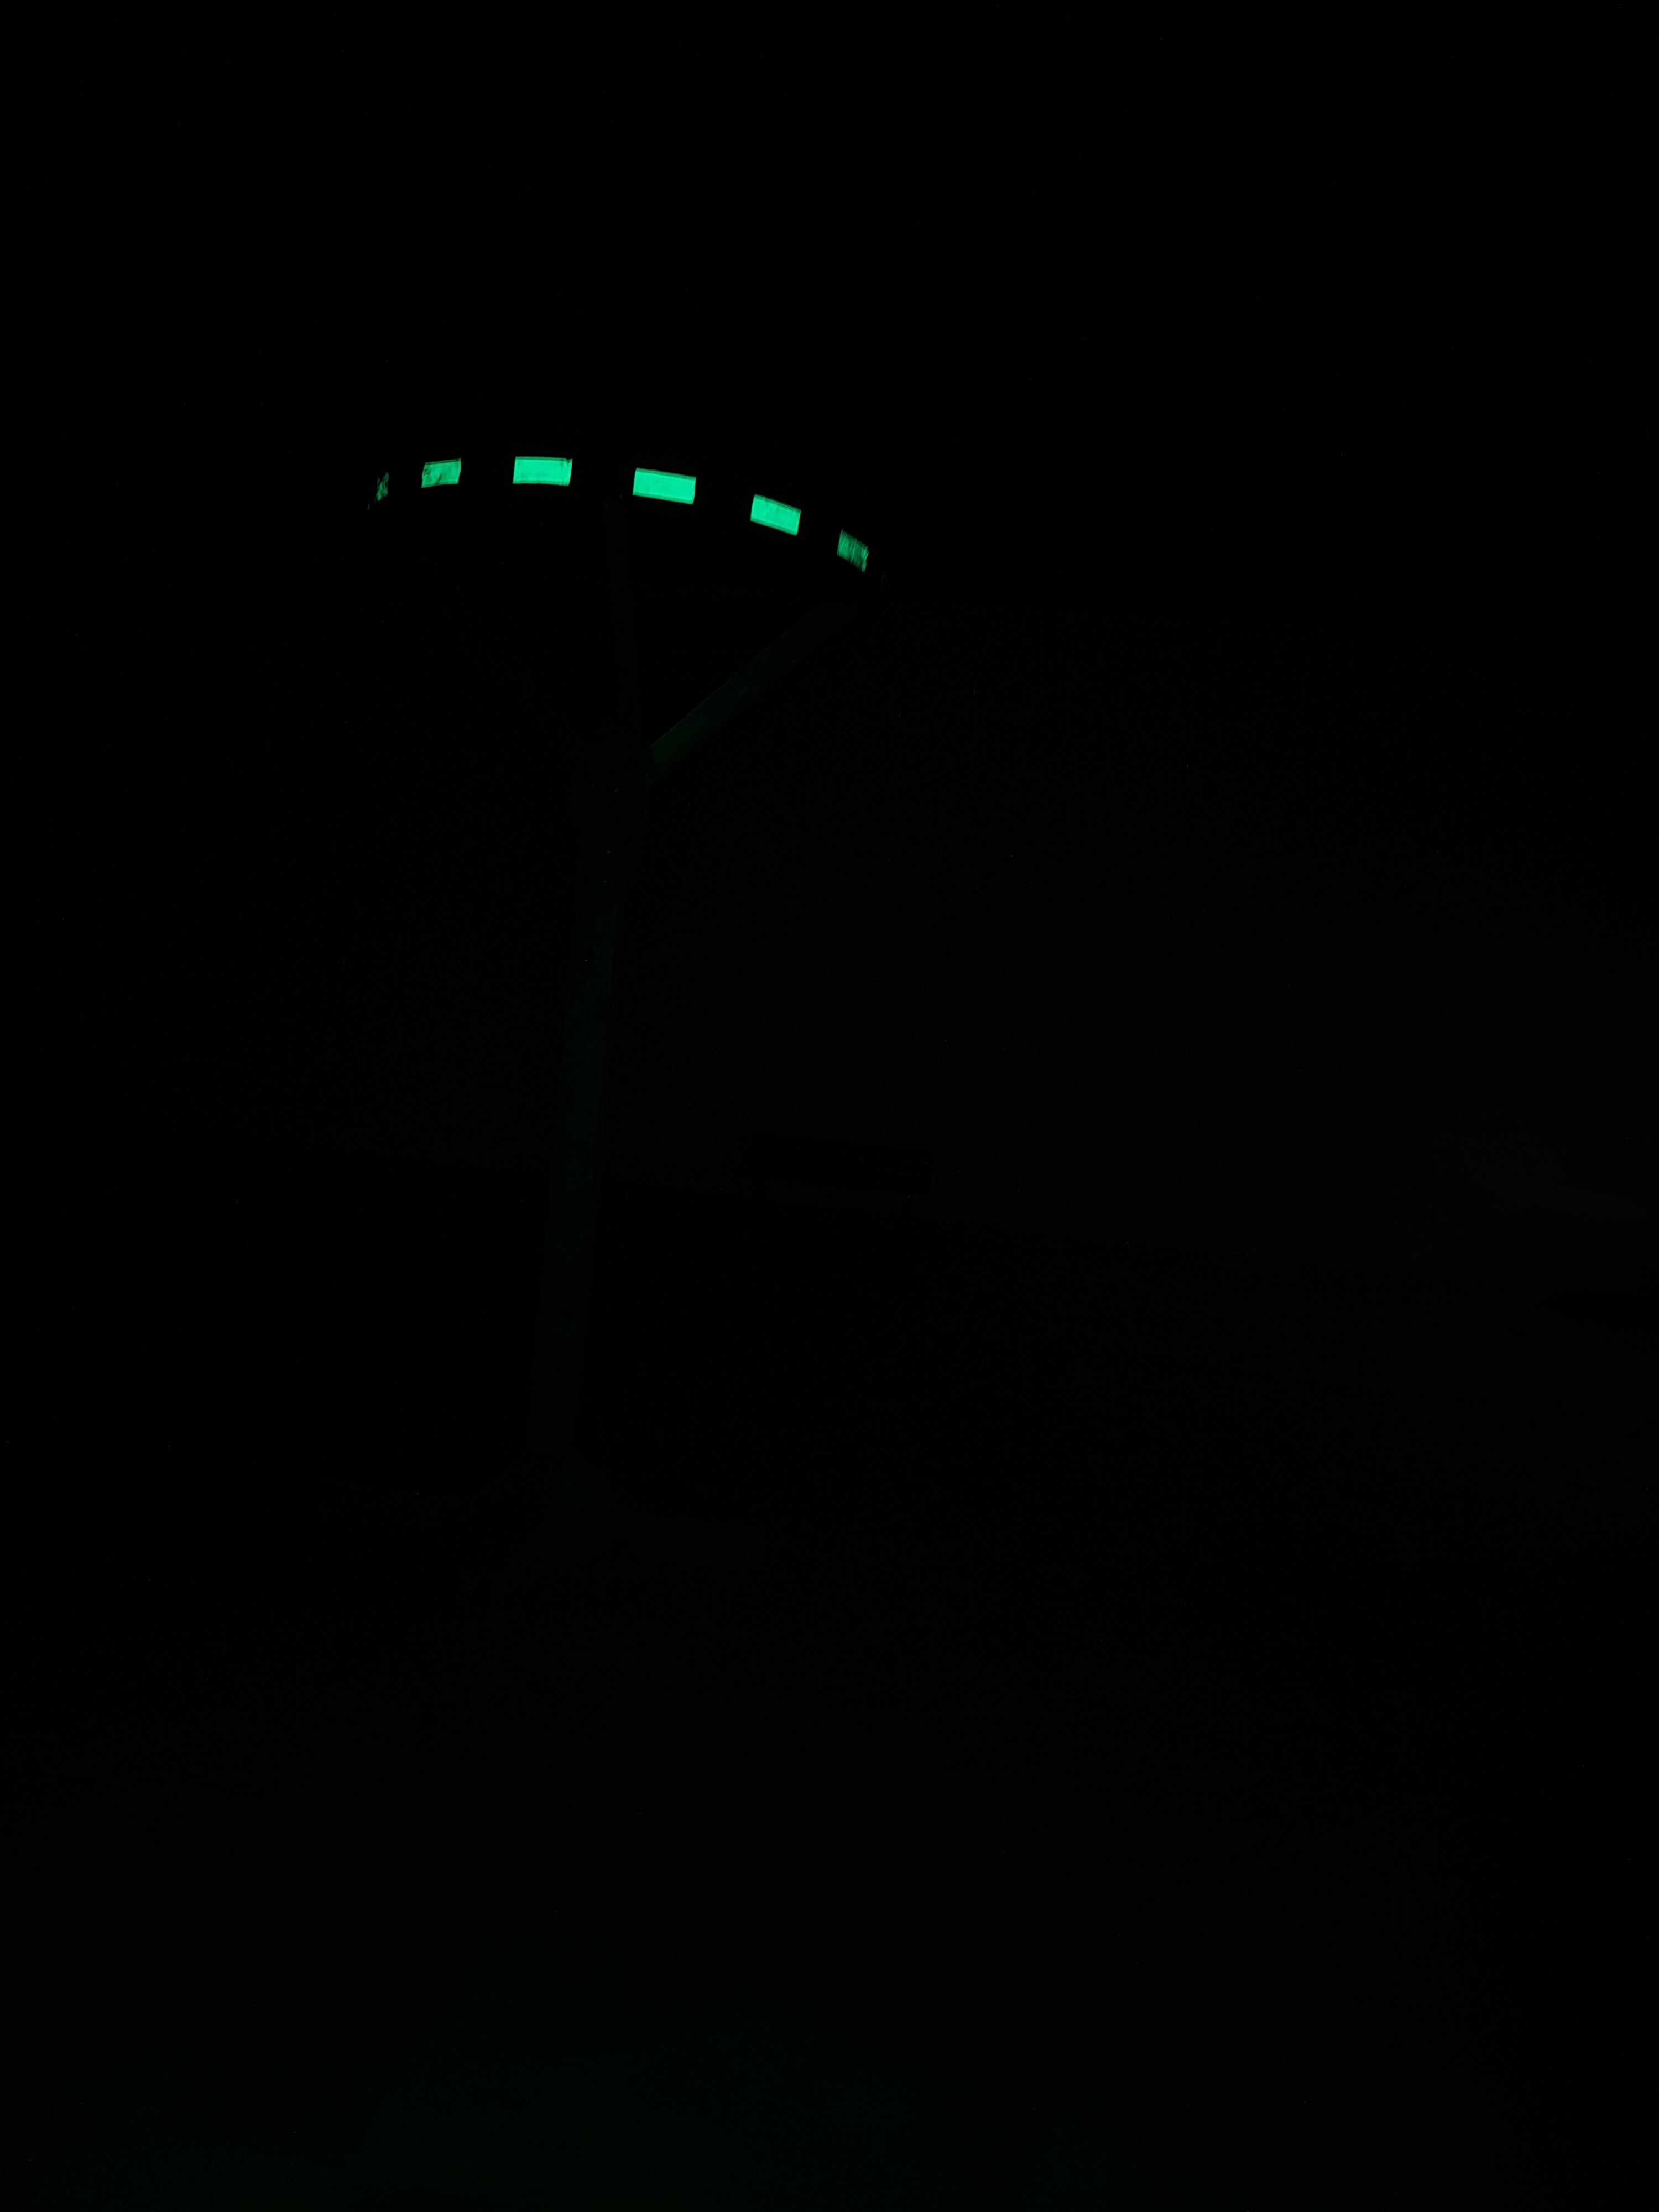hoop: (368, 446, 877, 594)
